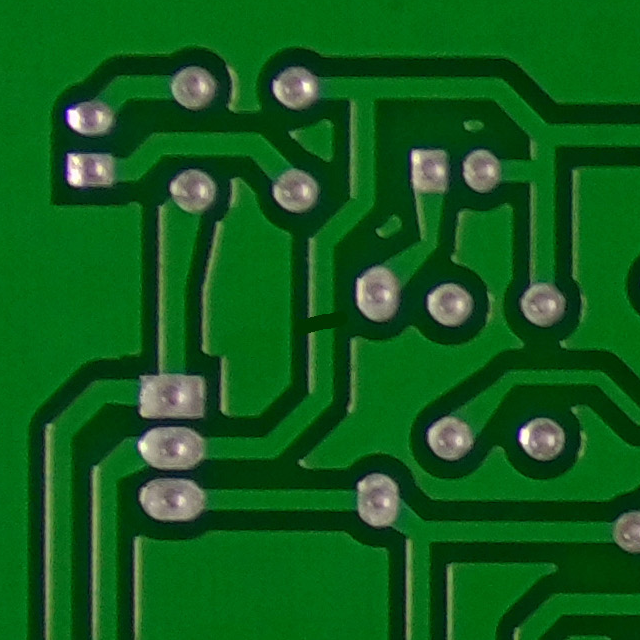open_circuit: (294, 297, 347, 344)
